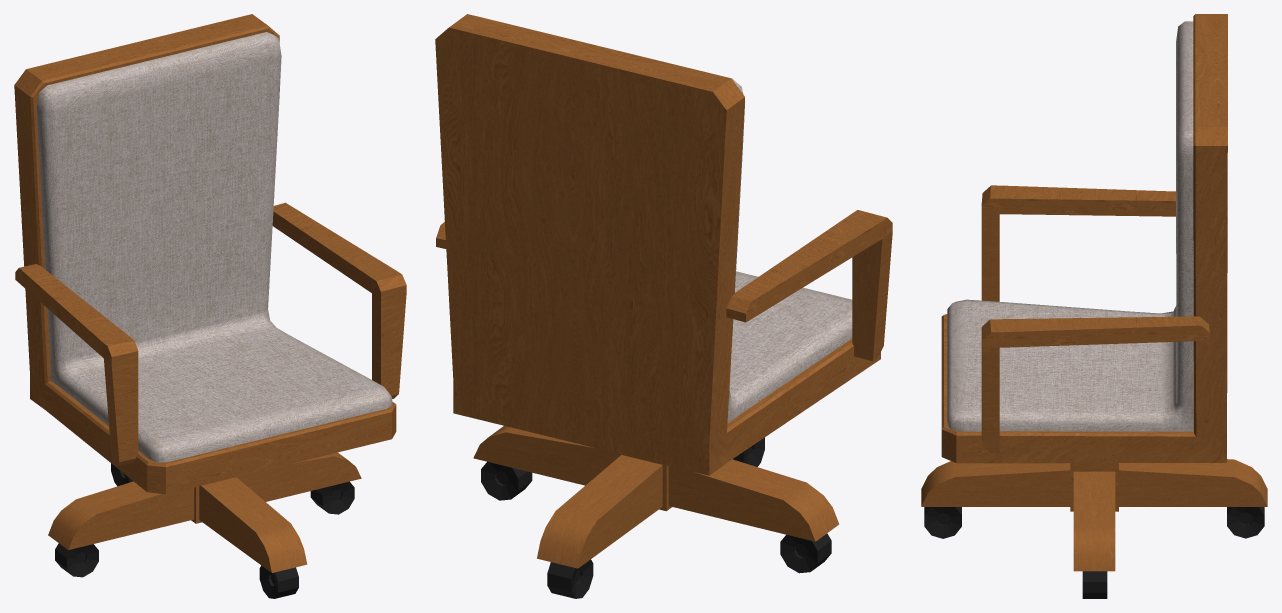
Rendered from chair.fbx.
The picture shows the model from 3 angles, left to right: view 1: azimuth 30°, elevation 25°; view 2: azimuth 150°, elevation 25°; view 3: azimuth 270°, elevation 25°; orthographic projection. The views are drawn at different scales.
Parts seen in each view (by area): view 1: chair; view 2: chair; view 3: chair.
Part boxes in pixels (<box>): chair: <box>14,14,406,598</box>; chair: <box>435,14,892,598</box>; chair: <box>921,14,1267,598</box>.
Size of the model in its own units: 0.6296 by 0.9226 by 0.626.
